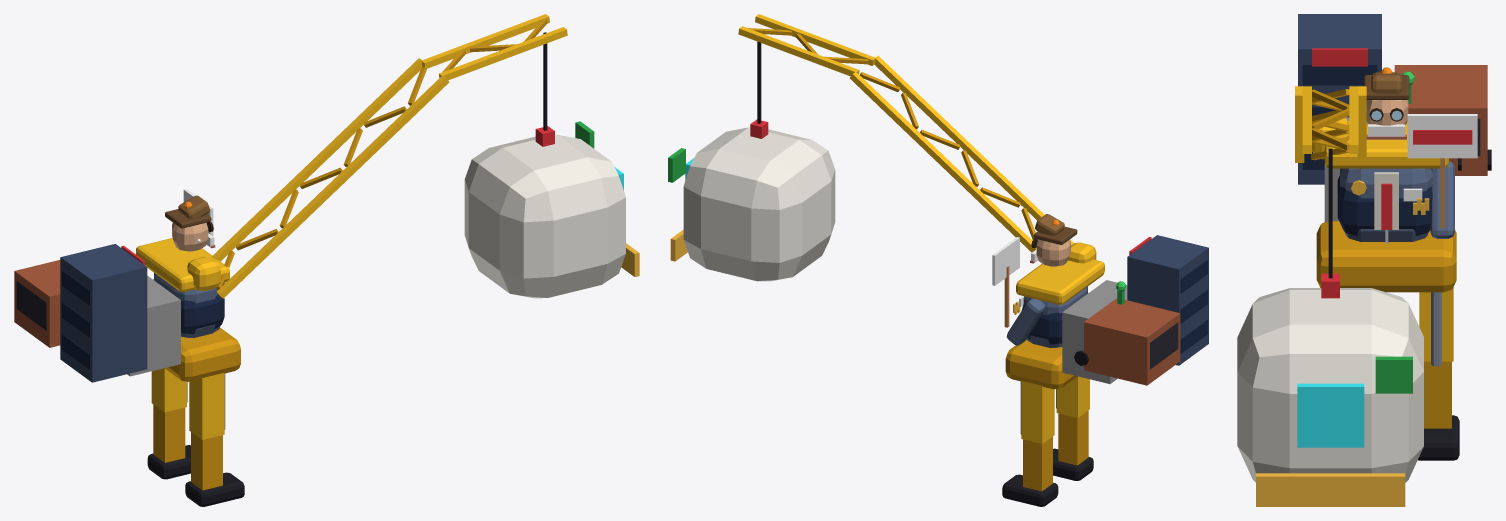
Rendered from promoteur.glb.
3 renders of one model, left to right at view 1: azimuth 30°, elevation 25°; view 2: azimuth 150°, elevation 25°; view 3: azimuth 270°, elevation 25°, orthographic. The views are drawn at different scales.
Visible parts, largest first — view 1: p_rbox.1240, p_box.4327, p_box.4308, p_box.4309, p_box.4293, p_rbox.1232, p_box.4332, p_rbox.1234, p_box.4289, p_box.4292, p_box.4290, p_box.4317 (+9 smaller); view 2: p_rbox.1240, p_box.4332, p_box.4327, p_rbox.1234, p_box.4293, p_box.4309, p_rbox.1232, p_box.4308, p_box.4291, p_box.4290, p_box.4292, p_box.4318 (+10 smaller); view 3: p_rbox.1240, p_rbox.1232, p_box.4325, p_box.4332, p_box.4324, p_box.4327, p_rbox.1233, p_rbox.1238, p_box.4302, p_rbox.1234, p_box.4292, p_box.4291 (+25 smaller).
Part boxes in pixels (bbox=[...]): p_rbox.1240: bbox=[464, 134, 625, 298]; p_box.4327: bbox=[60, 244, 147, 382]; p_box.4308: bbox=[216, 75, 449, 298]; p_box.4309: bbox=[211, 58, 422, 261]; p_box.4293: bbox=[127, 276, 180, 376]; p_rbox.1232: bbox=[164, 327, 240, 381]; p_box.4332: bbox=[14, 260, 60, 347]; p_rbox.1234: bbox=[136, 238, 229, 291]; p_box.4289: bbox=[189, 373, 224, 439]; p_box.4292: bbox=[153, 404, 185, 462]; p_box.4290: bbox=[191, 432, 222, 490]; p_box.4317: bbox=[439, 27, 567, 80]; p_rbox.1240: bbox=[683, 127, 835, 281]; p_box.4332: bbox=[1084, 298, 1180, 385]; p_box.4327: bbox=[1127, 235, 1208, 365]; p_rbox.1234: bbox=[1016, 259, 1104, 304]; p_box.4293: bbox=[1062, 280, 1127, 383]; p_box.4309: bbox=[849, 72, 1036, 252]; p_rbox.1232: bbox=[1005, 339, 1077, 389]; p_box.4308: bbox=[874, 55, 1073, 244]; p_box.4291: bbox=[1021, 380, 1054, 443]; p_box.4290: bbox=[1058, 410, 1088, 465]; p_box.4292: bbox=[1023, 436, 1052, 491]; p_box.4318: bbox=[738, 26, 859, 76]; p_rbox.1240: bbox=[1237, 288, 1423, 482]; p_rbox.1232: bbox=[1316, 221, 1456, 292]; p_box.4325: bbox=[1256, 473, 1405, 506]; p_box.4332: bbox=[1394, 65, 1487, 175]; p_box.4324: bbox=[1297, 383, 1364, 447]; p_box.4327: bbox=[1298, 14, 1381, 184]; p_rbox.1233: bbox=[1340, 168, 1433, 241]; p_rbox.1238: bbox=[1337, 175, 1432, 236]; p_box.4302: bbox=[1407, 114, 1477, 158]; p_rbox.1234: bbox=[1324, 121, 1448, 168]; p_box.4292: bbox=[1424, 361, 1451, 428]; p_box.4291: bbox=[1419, 287, 1453, 361].
Size of the model in its own units: 5.28 by 3.71 by 1.63.
